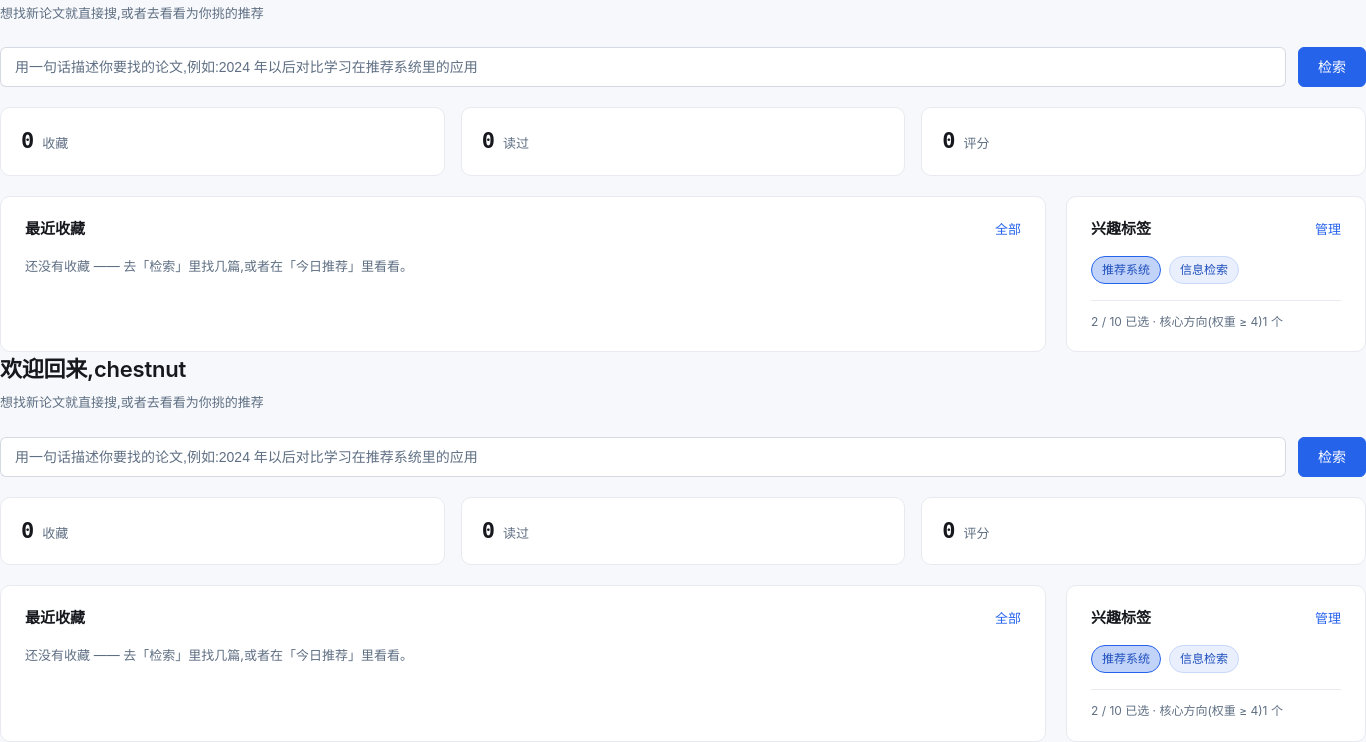
it: OverviewView › 提交搜索后带着查询跳到检索页
The width and height of the screenshot is (1366, 742).
(page scrolled)
Type "对比学习 推荐系统" into the 2nd field with placeholder "用一句话描述你要找的论文,例如:2024 年以后对比学习在推荐系统里的应用" at (643, 457), box [15,438,1271,476]
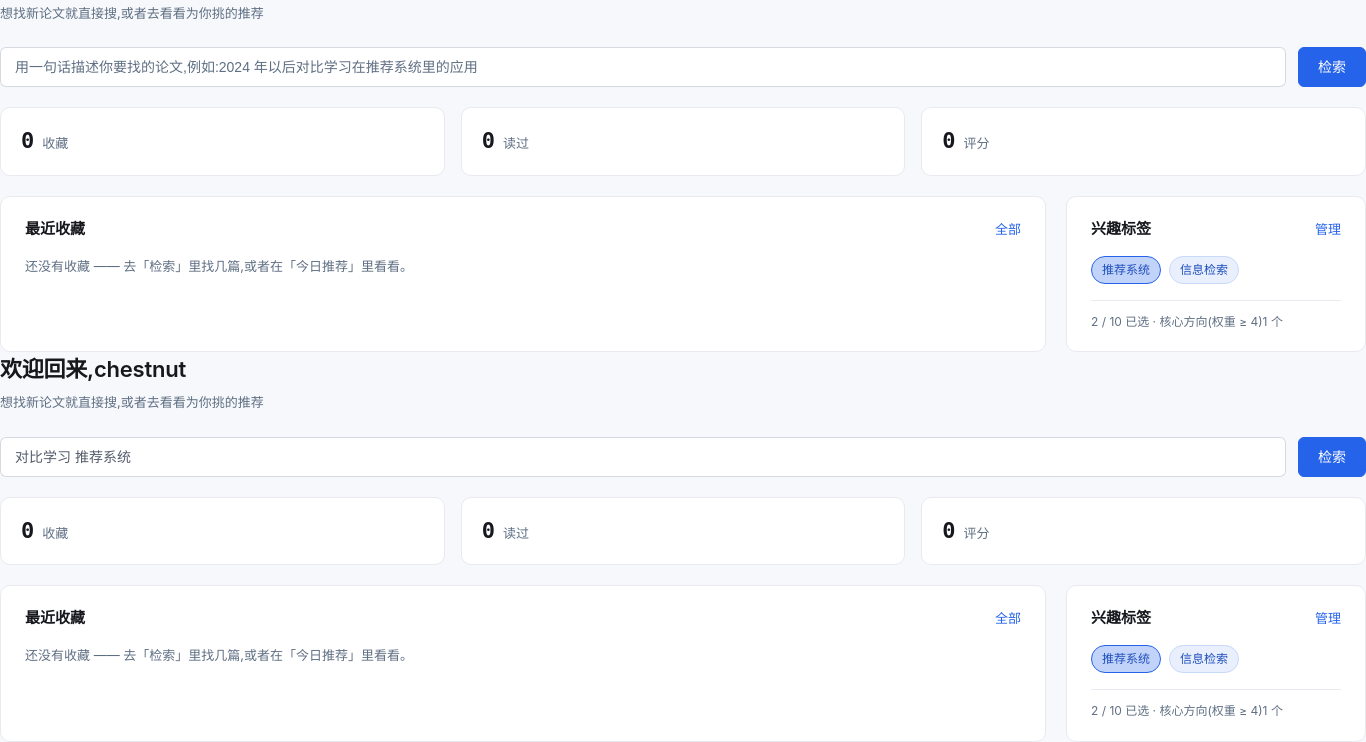
Submit the 2nd form "检索", box [0,437,1365,477]
(page scrolled)
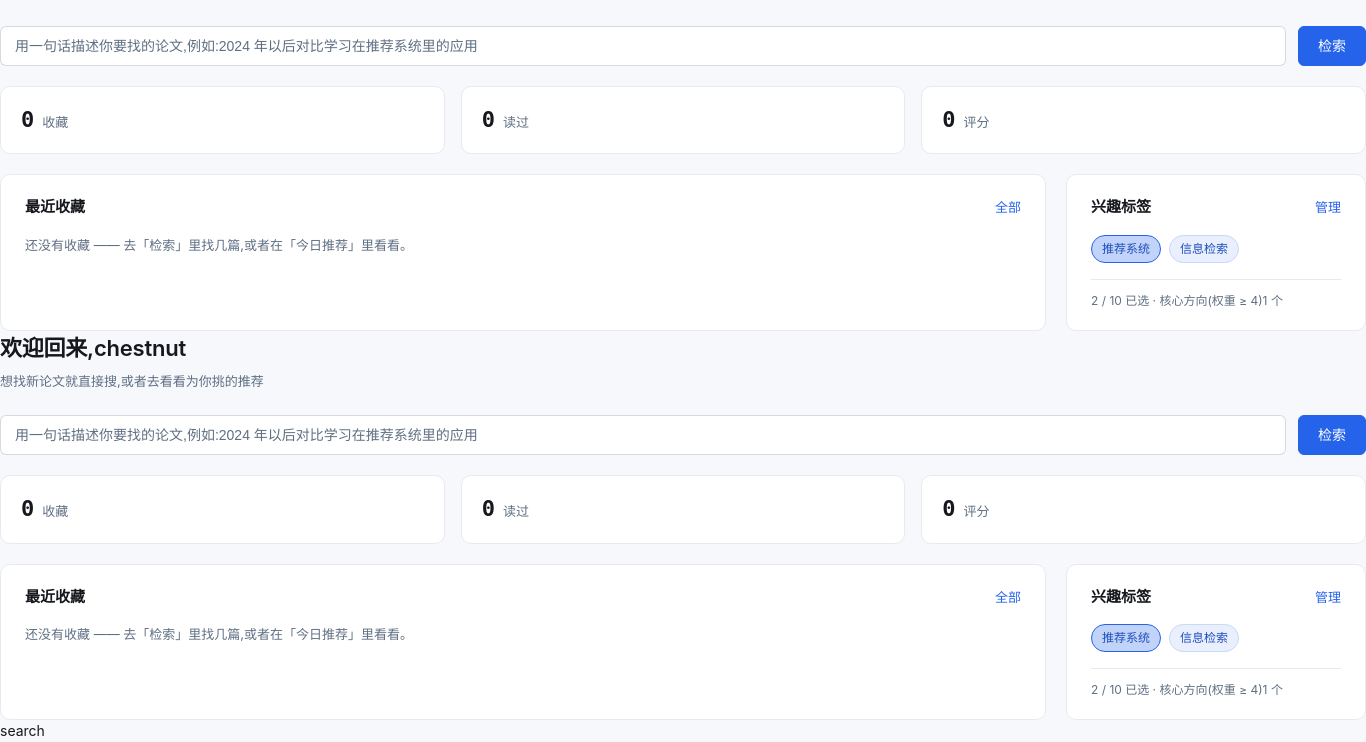
Check: the text "search" is shown, box [0,722,45,739]
